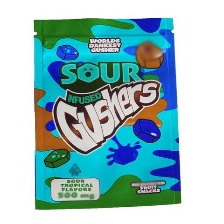snack: (23, 6, 190, 215)
